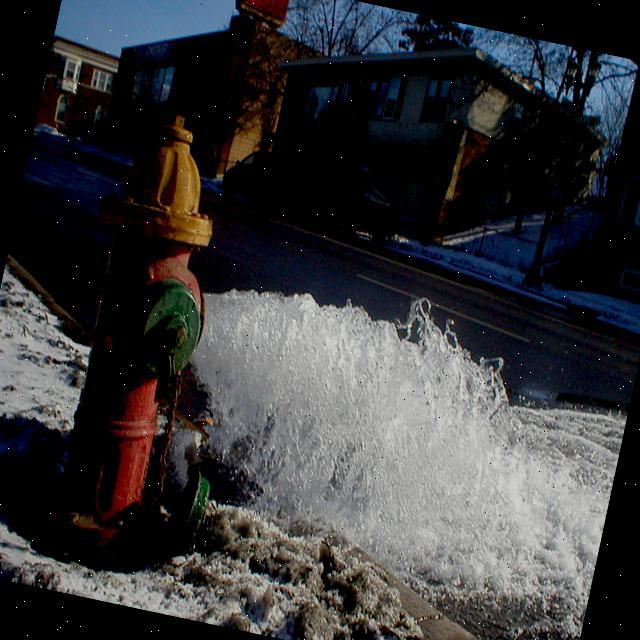fire_hydrant: (23, 99, 286, 582)
